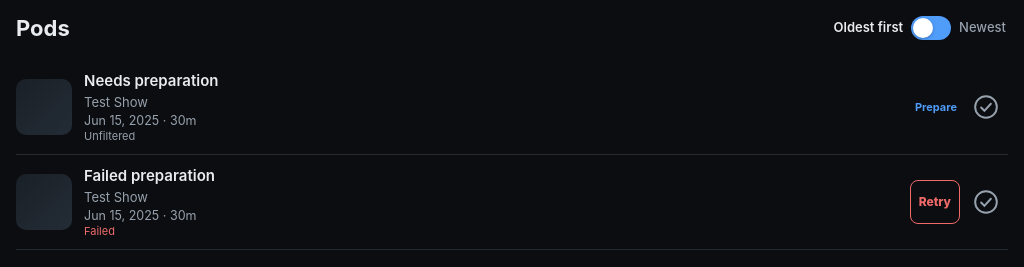
Test: RecentView › shows compact ad-removal state and prepares or retries without gating playback
The image size is (1024, 267).
Expected: the text "Unfiltered" is shown, [84,131,135,142]
Click the button with aria-label "Prepare ad-free".
click(936, 107)  # box [912,85,960,129]
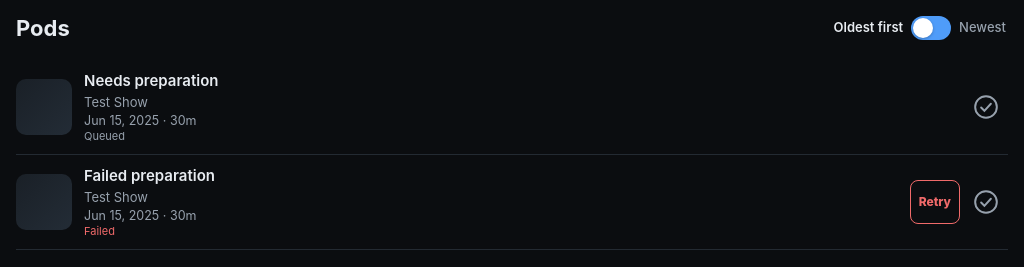
Expected: the text "Failed" is shown, [84,226,115,236]
Now the text "Queued" is shown, box [84,131,125,142]
Click the button with aria-label "Retry ad-free preparation".
click(935, 202)  # box [910,180,960,224]
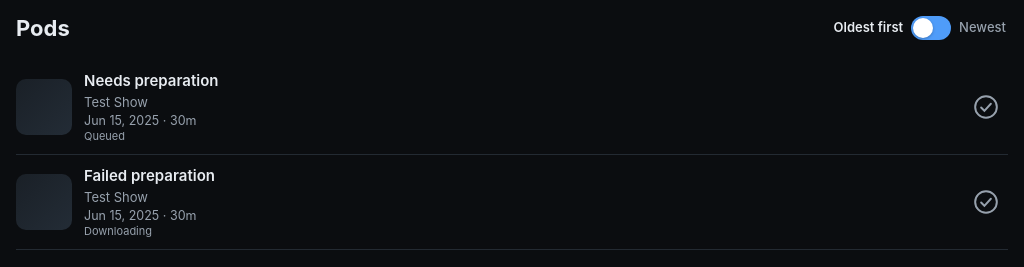
Now the text "Downloading" is shown, box [84,226,152,236]
